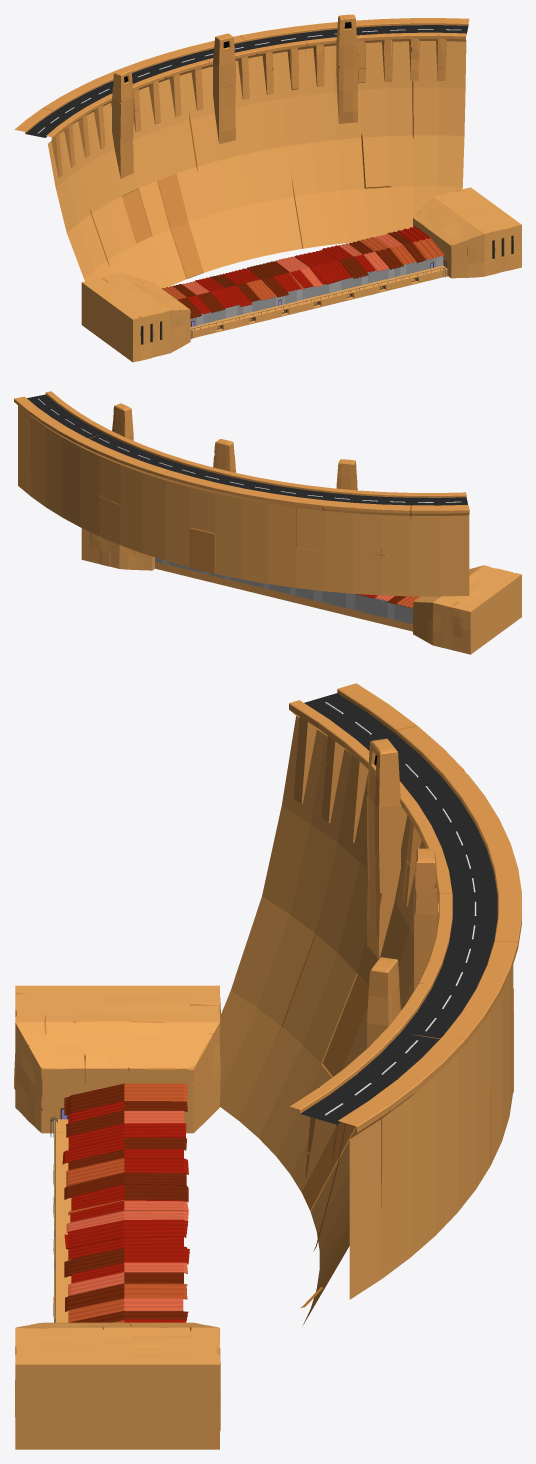
Rendered from Dam.glb.
3 views of the same model, one above another, from view 1: azimuth 30°, elevation 25°; view 2: azimuth 150°, elevation 25°; view 3: azimuth 270°, elevation 25° (orthographic). The views are drawn at different scales.
Parts seen in each view (by area): view 1: DamWall, BaseBuilding; view 2: DamWall, BaseBuilding; view 3: DamWall, BaseBuilding.
Boxes of the visible parts, x1,y1,x2,y2 form: DamWall: [14, 14, 469, 288]; BaseBuilding: [81, 187, 521, 362]; DamWall: [14, 391, 469, 610]; BaseBuilding: [81, 528, 521, 654]; DamWall: [220, 683, 521, 1324]; BaseBuilding: [14, 985, 220, 1449].
Bounding box in the file's own units: 227 × 97.1 × 110.
Materials: 1 (1 with a texture image).
